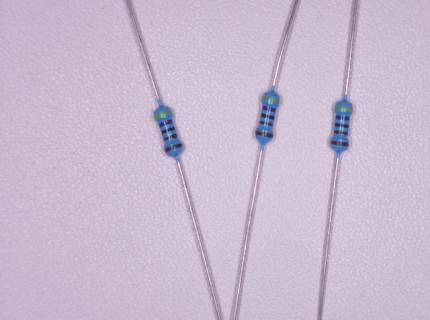Black band: (161, 126, 176, 135), (260, 113, 274, 120), (335, 122, 349, 128)
Brown band: (164, 143, 184, 153), (255, 130, 274, 139), (330, 140, 349, 147), (163, 133, 178, 141), (259, 121, 273, 127), (334, 130, 348, 136)
Violet band: (159, 119, 173, 128), (262, 106, 276, 112), (336, 115, 350, 121)
Yellow band: (154, 110, 172, 119), (261, 96, 279, 103), (335, 105, 353, 112)
